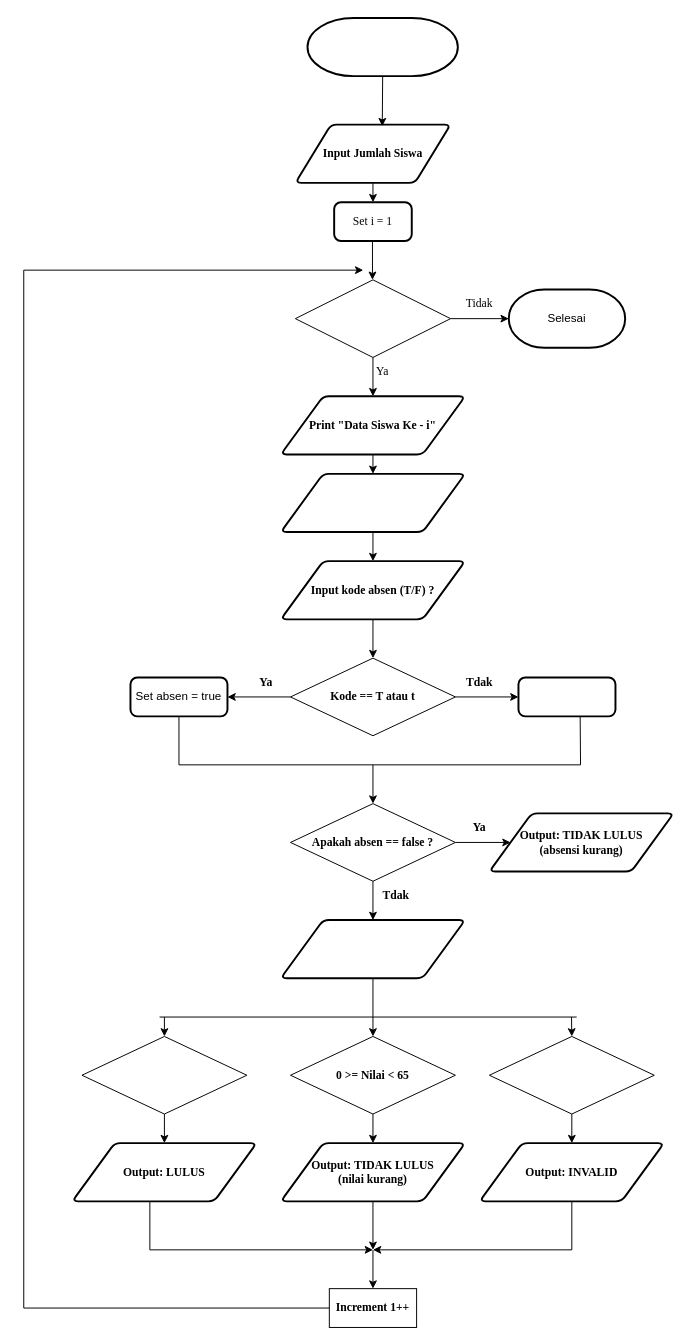
Image size: 692x1344. Some labels were removed from this diagram. Each missing label, with the box of its shape:
65 >= Nilai <=100: (81, 1035, 247, 1114)
Apakah i <= Jumlah Siswa: (294, 279, 451, 357)
Input Nama Siswa: (279, 472, 466, 533)
Input Nilai Akhir: (279, 919, 466, 979)
Jika nilai < 0 dan > 100: (488, 1035, 654, 1114)
Mulai: (306, 16, 458, 77)
Set absen = false: (517, 676, 616, 717)
